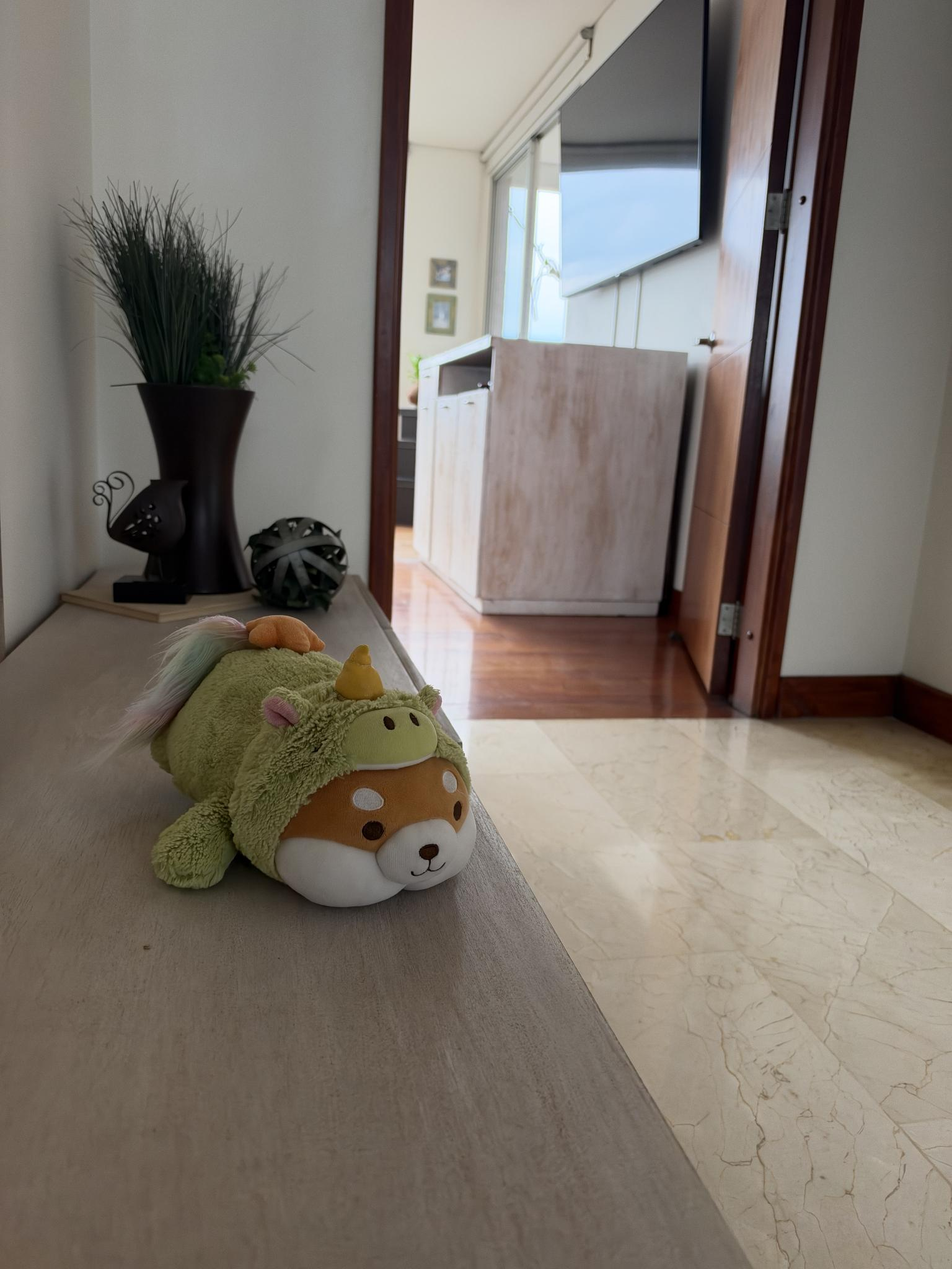peluche_martin: (84, 613, 477, 908)
